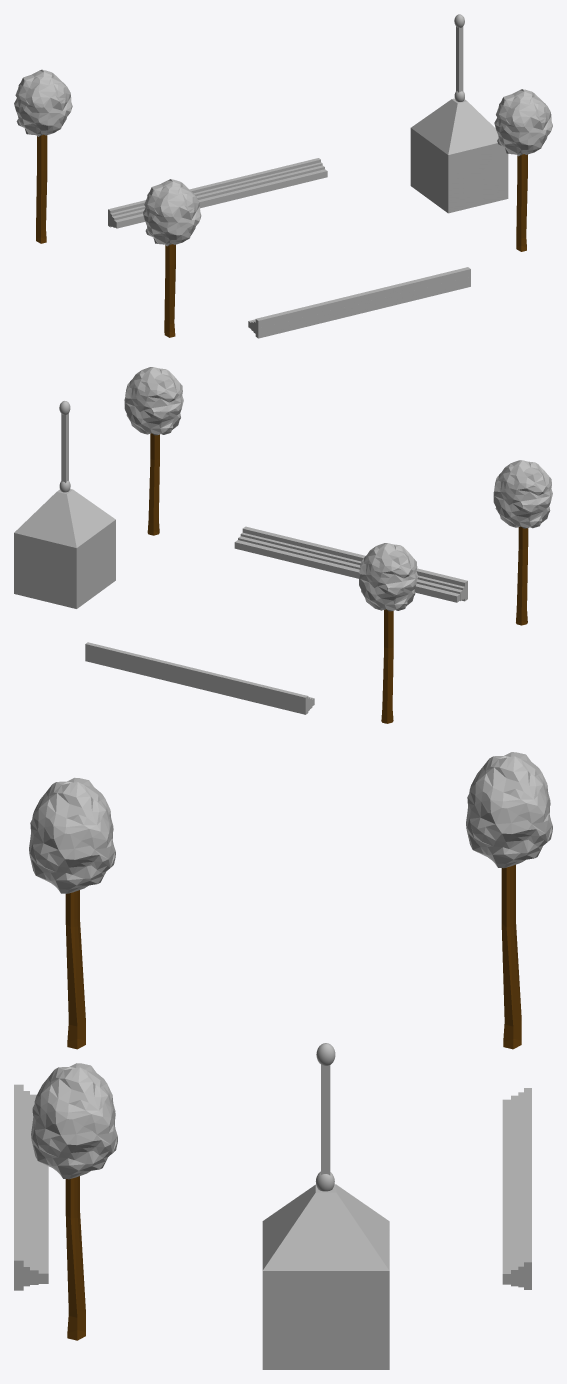
The model's file is Race Track 1.fbx.
The picture shows the model from 3 angles, top to bottom: view 1: azimuth 30°, elevation 25°; view 2: azimuth 150°, elevation 25°; view 3: azimuth 270°, elevation 25°; orthographic projection. The views are drawn at different scales.
Visible parts, largest first — view 1: pCube1, pasted__pasted__pasted__pCube3, pasted__pasted__pasted__pasted__pasted__pCube1, pasted__pasted__pasted__pasted__pCube1, pasted__pasted__pasted__pCube1, pasted__pasted__pCube1 (×2), pasted__pCube1, pasted__pasted__pasted__pasted__pasted__pCylinder1, pasted__pasted__pasted__pCylinder1, pasted__pasted__pasted__pasted__pCylinder1, pasted__pasted__pCube3, pasted__pasted__pCube2 (+1 smaller); view 2: pCube1, pasted__pasted__pCube3, pasted__pasted__pasted__pCube1 (×2), pasted__pasted__pasted__pasted__pasted__pCube1, pasted__pasted__pasted__pasted__pCube1, pasted__pasted__pCube1, pasted__pasted__pasted__pCube3, pasted__pasted__pasted__pasted__pasted__pCylinder1, pasted__pasted__pasted__pCylinder1, pasted__pasted__pasted__pasted__pCylinder1, pasted__pasted__pasted__pCube2, pCube5; view 3: pCube1, pasted__pasted__pasted__pCube1 (×2), pasted__pasted__pasted__pasted__pasted__pCube1, pasted__pasted__pasted__pasted__pCube1, pasted__pasted__pCube1 (×2), pasted__pasted__pasted__pasted__pasted__pCylinder1, pasted__pasted__pasted__pCylinder1, pasted__pasted__pasted__pasted__pCylinder1, pasted__pasted__pasted__pCube3, pasted__pCube1, pasted__pasted__pCube3, pasted__pasted__pasted__pCube2 (+2 smaller).
Part boxes in pixels (x1,y1,x2,y2): pCube1: (410,98,508,213); pasted__pasted__pasted__pCube3: (255,267,470,338); pasted__pasted__pasted__pasted__pasted__pCube1: (143,179,201,246); pasted__pasted__pasted__pasted__pCube1: (14,69,72,136); pasted__pasted__pasted__pCube1: (494,89,552,156); pasted__pasted__pCube1 (×2): (108,165,470,334); pasted__pCube1: (114,169,327,228); pasted__pasted__pasted__pasted__pasted__pCylinder1: (36,134,47,243); pasted__pasted__pasted__pCylinder1: (516,154,527,251); pasted__pasted__pasted__pasted__pCylinder1: (164,244,175,337); pasted__pasted__pCube3: (108,158,320,227); pasted__pasted__pCube2: (108,162,322,226); pCube1: (14,489,115,608); pasted__pasted__pCube3: (85,642,308,714); pasted__pasted__pasted__pCube1 (×2): (124,367,467,600); pasted__pasted__pasted__pasted__pasted__pCube1: (493,460,552,528); pasted__pasted__pasted__pasted__pCube1: (358,543,417,611); pasted__pasted__pCube1: (234,540,459,602); pasted__pasted__pasted__pCube3: (242,526,467,601); pasted__pasted__pasted__pasted__pasted__pCylinder1: (381,609,393,723); pasted__pasted__pasted__pCylinder1: (147,433,159,535); pasted__pasted__pasted__pasted__pCylinder1: (516,526,528,625); pasted__pasted__pasted__pCube2: (240,532,467,599); pCube5: (61,413,68,482); pCube1: (262,1184,389,1369); pasted__pasted__pasted__pCube1 (×2): (14,1063,117,1284); pasted__pasted__pasted__pasted__pasted__pCube1: (29,777,115,893); pasted__pasted__pasted__pasted__pCube1: (466,752,552,868); pasted__pasted__pCube1 (×2): (14,1095,531,1286); pasted__pasted__pasted__pasted__pasted__pCylinder1: (501,864,521,1049); pasted__pasted__pasted__pCylinder1: (65,1176,85,1340); pasted__pasted__pasted__pasted__pCylinder1: (65,890,85,1049); pasted__pasted__pasted__pCube3: (14,1084,23,1290); pasted__pCube1: (502,1099,531,1284); pasted__pasted__pCube3: (524,1088,531,1289); pasted__pasted__pasted__pCube2: (14,1091,29,1286).
Size of the model in its own units: 568 by 241 by 374.
